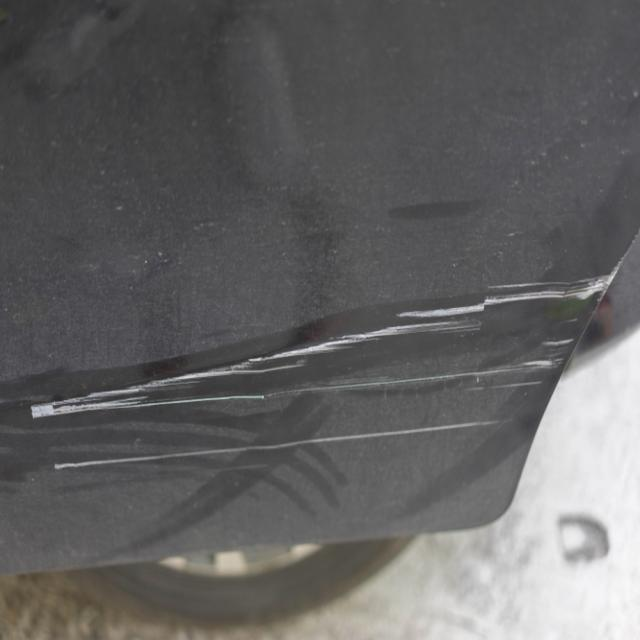scratch: (29, 266, 621, 479)
